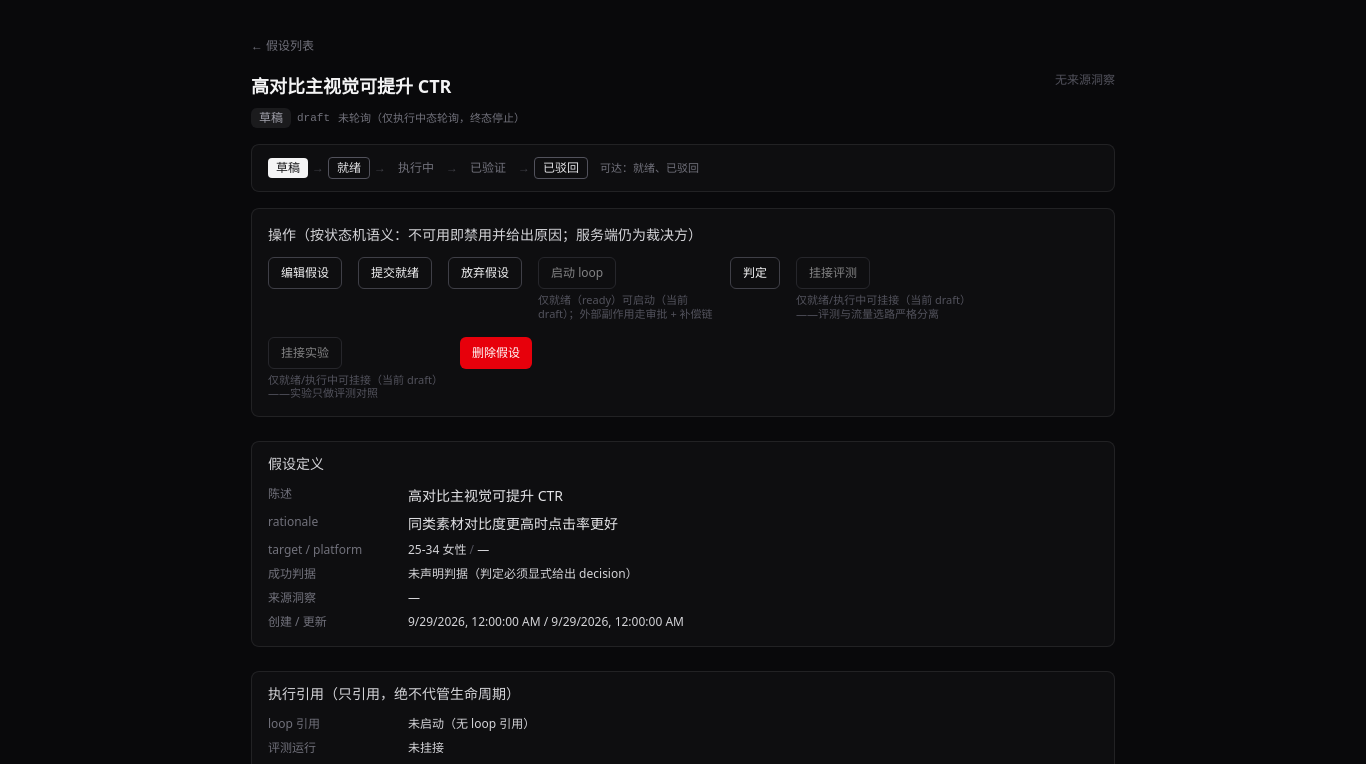
Test case: 假设详情（/creative/hypotheses/[id]） › draft 判定：只列出可达的判定方式（状态机无 draft → validated 边）
This screenshot has width=1366, height=764.
Expected: the heading "高对比主视觉可提升 CTR" is shown, 251,74 -> 452,98
What coordinates should you click on to do the following:
click the button "判定"
I would click on:
 (755, 273)
Its box is 730,257 -> 780,289.
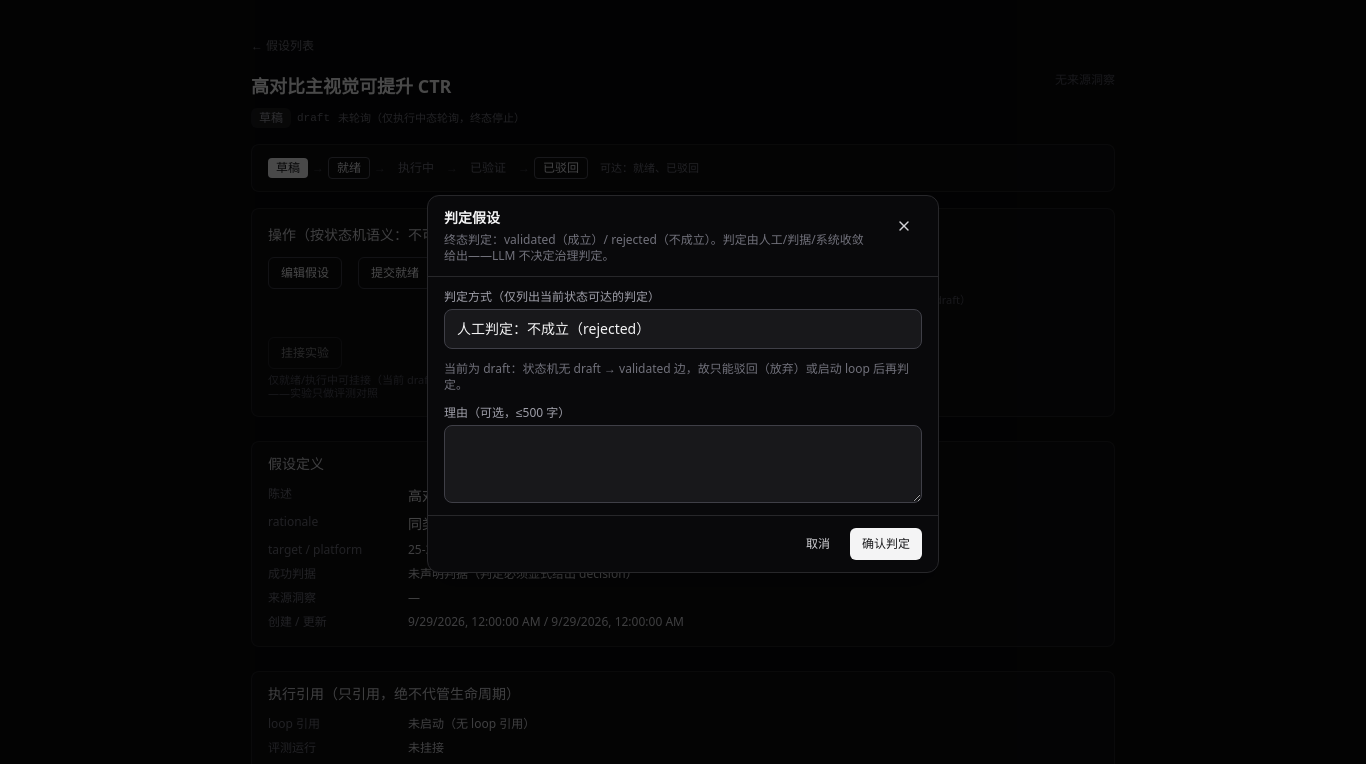
Now the text "当前为 draft：状态机无 draft → validated 边，故只能驳回（放弃）或启动 loop 后再判定。" is shown, box 444,361 -> 922,393
Now the button "确认判定" is enabled, box 850,528 -> 922,560
